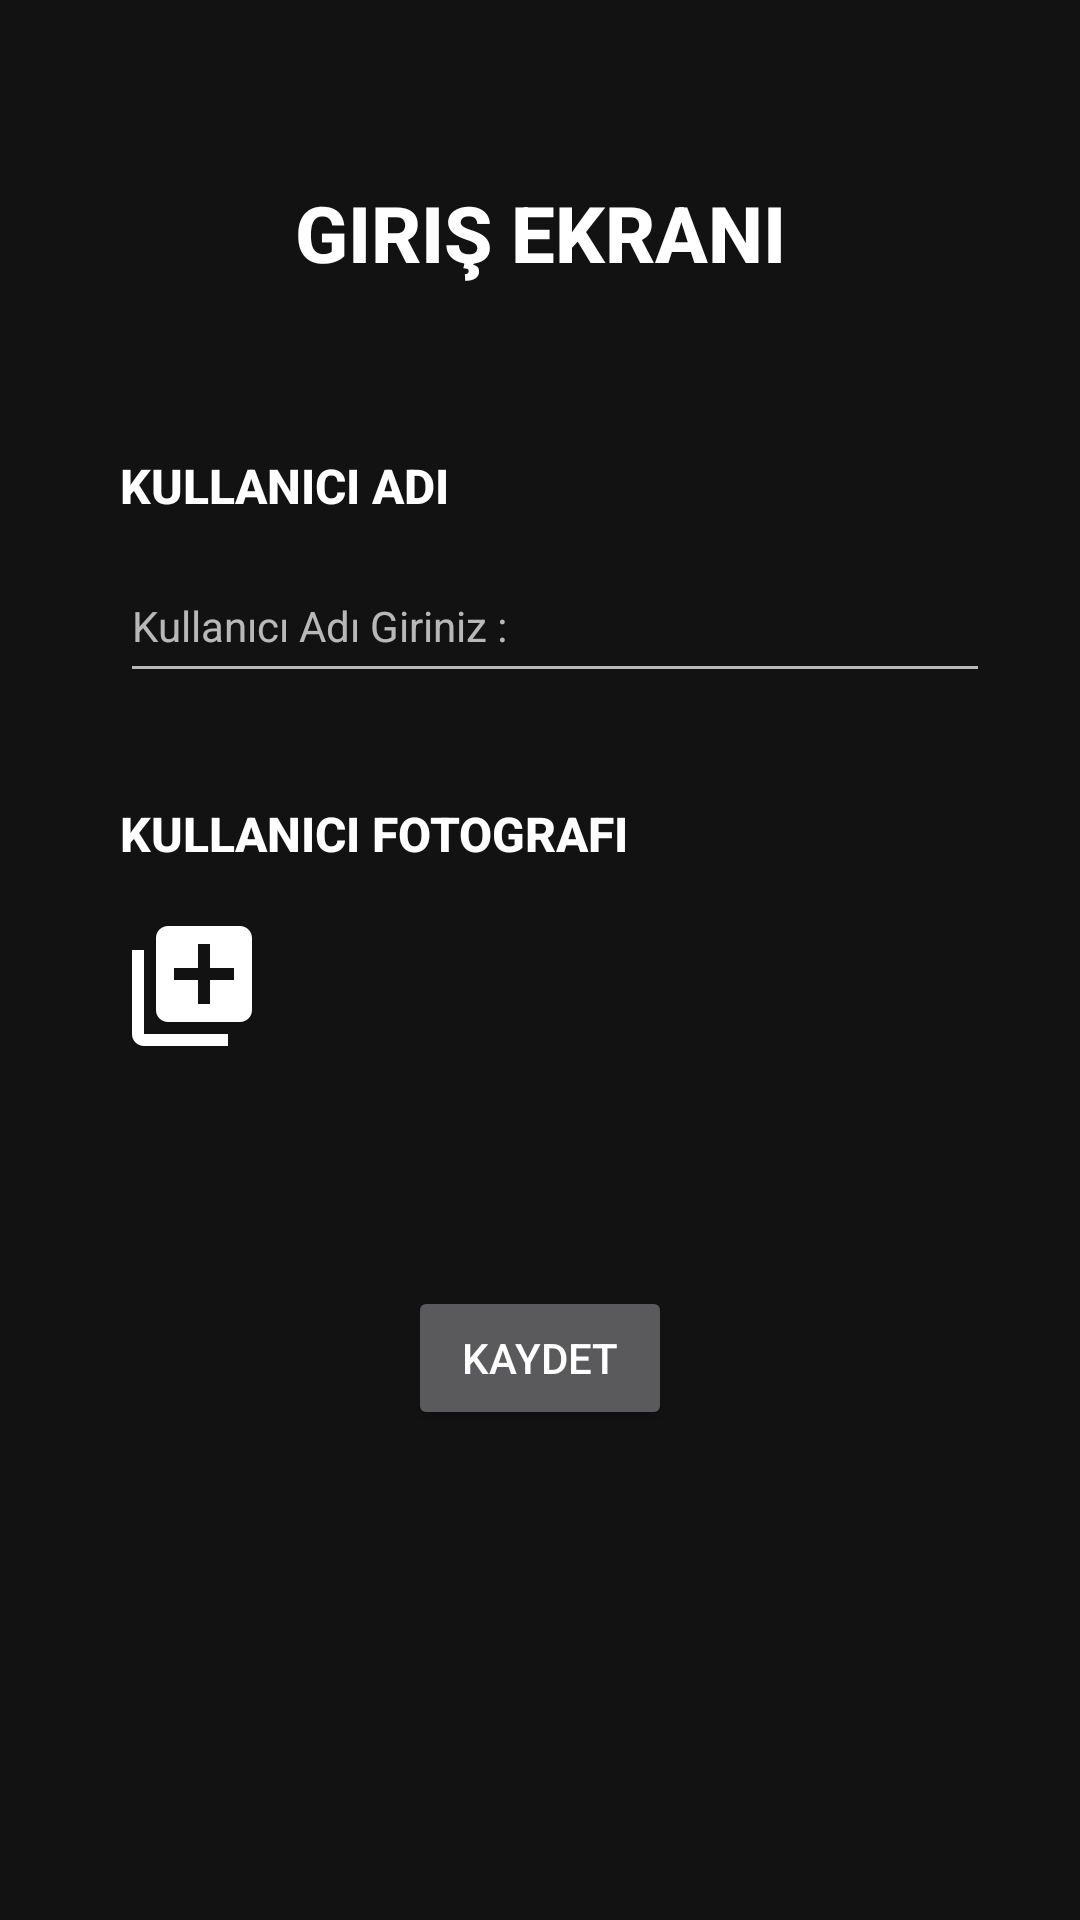

Point at icon controls on the screen. Image size 1080px×1920px, points as [x,y].
add: [192,986]
